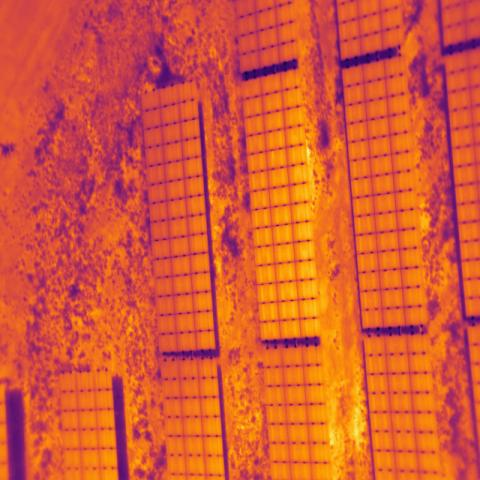fault: (267, 148, 287, 169)
